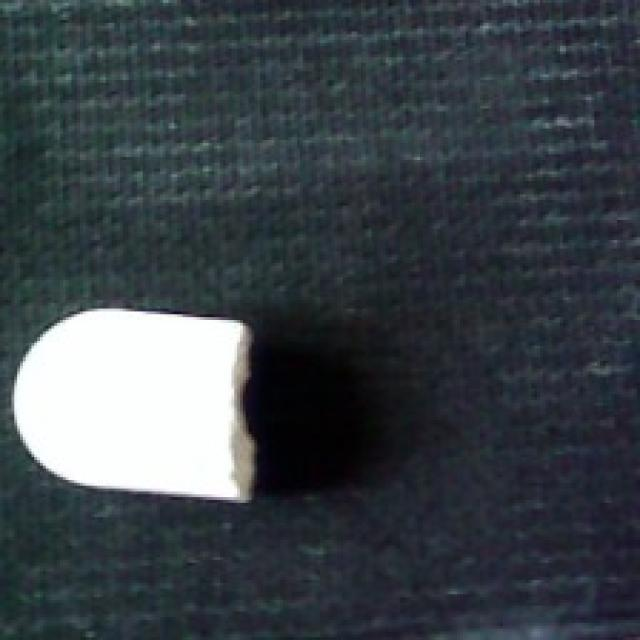defected: (8, 294, 268, 503)
